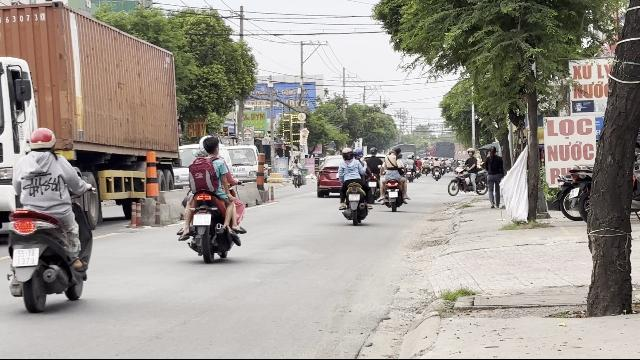helmet: (28, 128, 56, 152)
licenseplate: (12, 248, 40, 266), (193, 214, 211, 226)
motorcyclist: (0, 125, 96, 313), (176, 134, 246, 262)
nohelmet: (203, 136, 221, 160)
